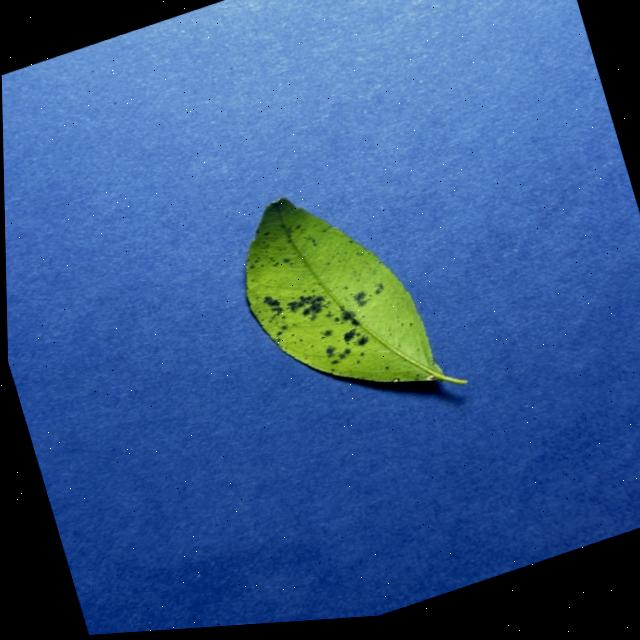sooty_mold: (246, 198, 465, 383)
